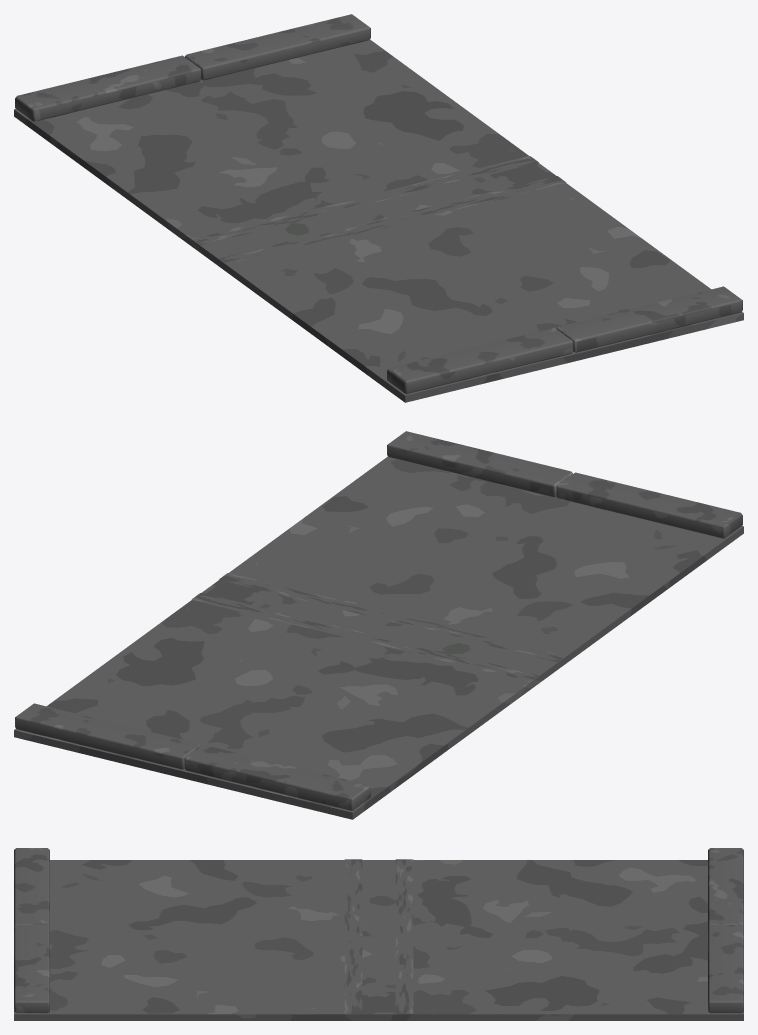
Rendered from SM_RoadSpline_01.obj.
3 views of the same model, one above another, from view 1: azimuth 30°, elevation 25°; view 2: azimuth 150°, elevation 25°; view 3: azimuth 270°, elevation 25° (orthographic). The views are drawn at different scales.
Parts seen in each view (by area): view 1: SM_RoadSpline_01_mi_RoadExterior_Concrete_01, SM_RoadSpline_01_mi_RoadExterior_Concrete_02, SM_RoadSpline_01_mi_SchoolWalls_01; view 2: SM_RoadSpline_01_mi_RoadExterior_Concrete_01, SM_RoadSpline_01_mi_RoadExterior_Concrete_02, SM_RoadSpline_01_mi_SchoolWalls_01; view 3: SM_RoadSpline_01_mi_RoadExterior_Concrete_01, SM_RoadSpline_01_mi_RoadExterior_Concrete_02, SM_RoadSpline_01_mi_SchoolWalls_01.
Part boxes in pixels (bbox=[...]): SM_RoadSpline_01_mi_RoadExterior_Concrete_01: bbox=[14, 39, 743, 402]; SM_RoadSpline_01_mi_RoadExterior_Concrete_02: bbox=[15, 14, 742, 394]; SM_RoadSpline_01_mi_SchoolWalls_01: bbox=[191, 156, 566, 265]; SM_RoadSpline_01_mi_RoadExterior_Concrete_01: bbox=[14, 456, 743, 819]; SM_RoadSpline_01_mi_RoadExterior_Concrete_02: bbox=[15, 431, 742, 811]; SM_RoadSpline_01_mi_SchoolWalls_01: bbox=[191, 573, 566, 682]; SM_RoadSpline_01_mi_RoadExterior_Concrete_01: bbox=[14, 860, 743, 1020]; SM_RoadSpline_01_mi_RoadExterior_Concrete_02: bbox=[14, 848, 743, 1013]; SM_RoadSpline_01_mi_SchoolWalls_01: bbox=[344, 859, 413, 1013].
Size of the model in its own units: 5 by 0.2969 by 10.
3 materials, 3 textured.
